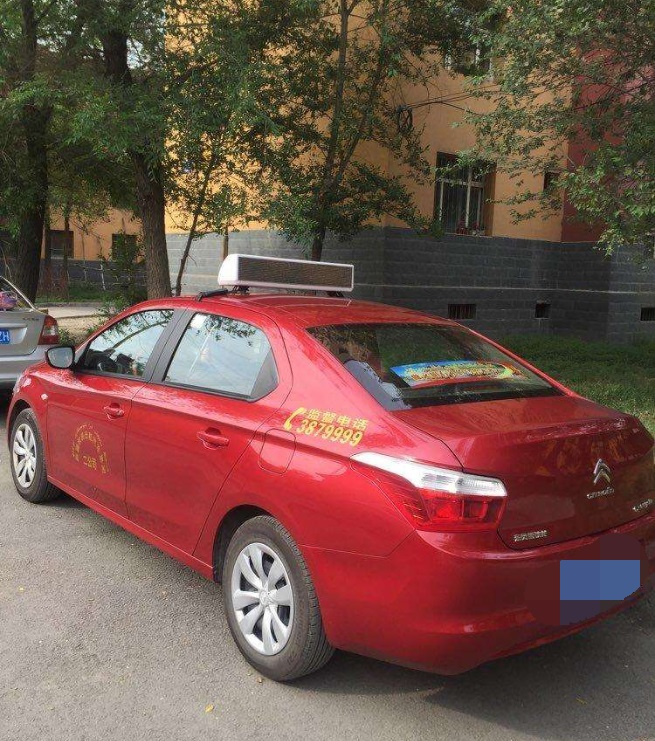taxi: (7, 252, 654, 690)
